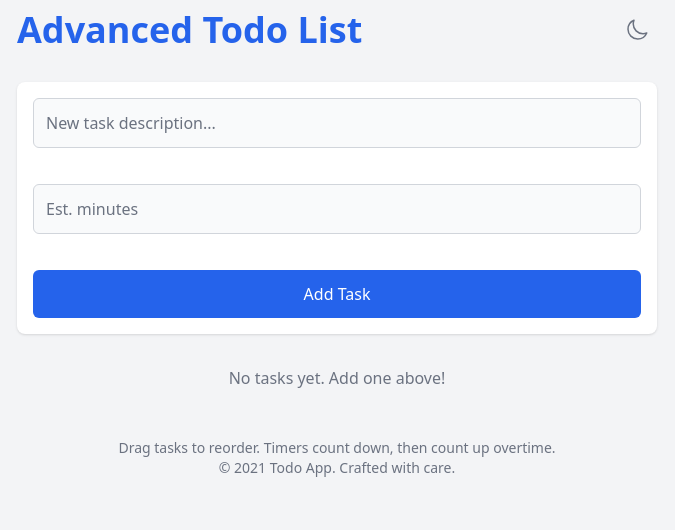
shows remaining time when marking a completed task as incomplete
Type "Test task" into the field labelled "New task description...". click: (337, 123)
box: [33, 98, 641, 148]
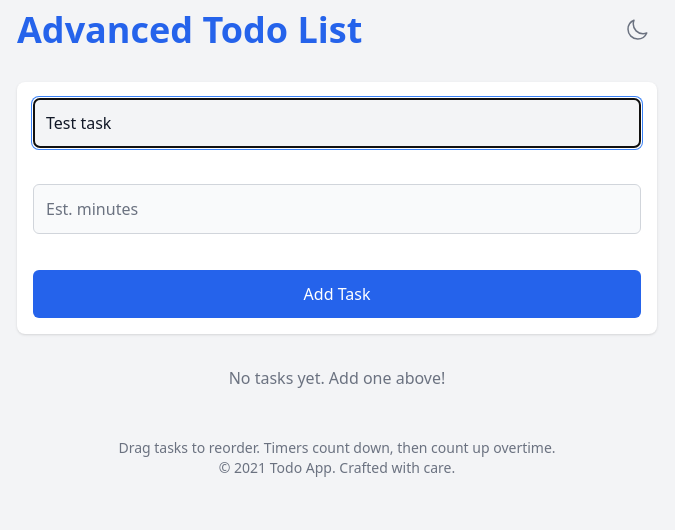
Type "1" into the number field named "estimated duration in minutes". click: (337, 209)
box: [33, 184, 641, 234]
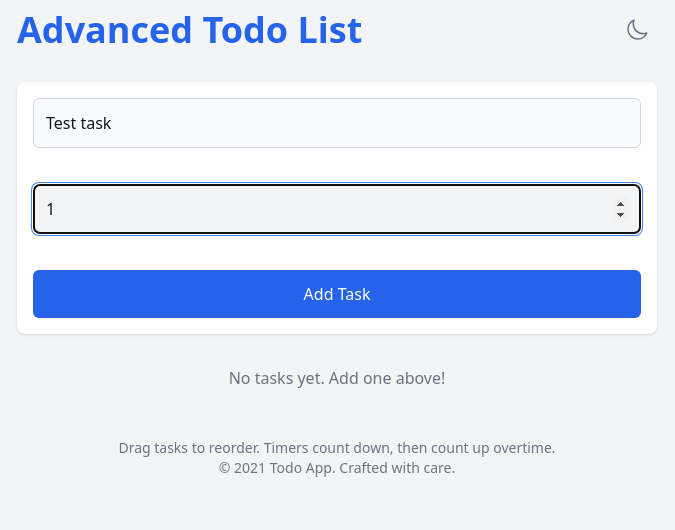
Click the button "Add Task". click: (337, 294)
box: [33, 270, 641, 318]
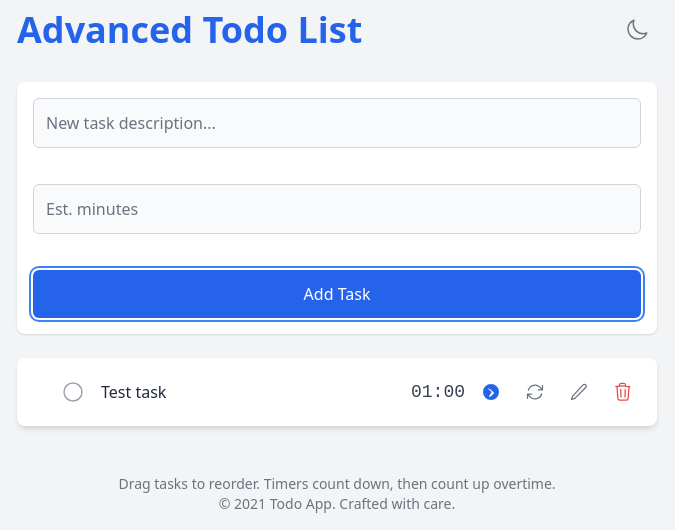
Click the button named "start timer". click: (491, 392)
box: [473, 374, 509, 410]
Wait 5000 ms
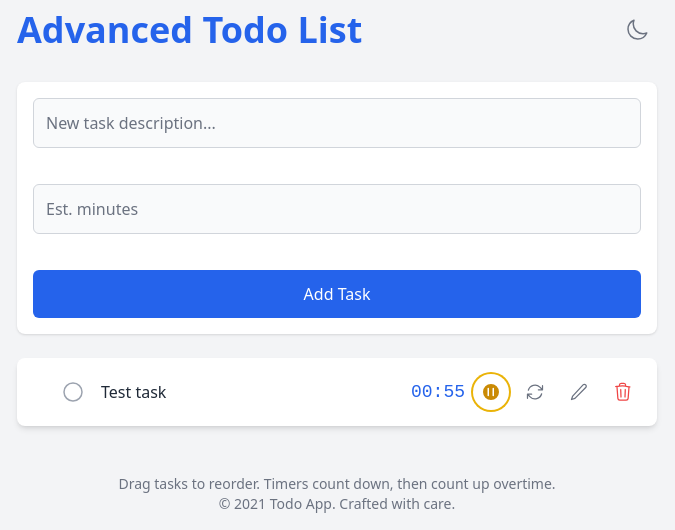
Click the button named "mark task as complete". click: (73, 392)
box: [57, 376, 89, 408]
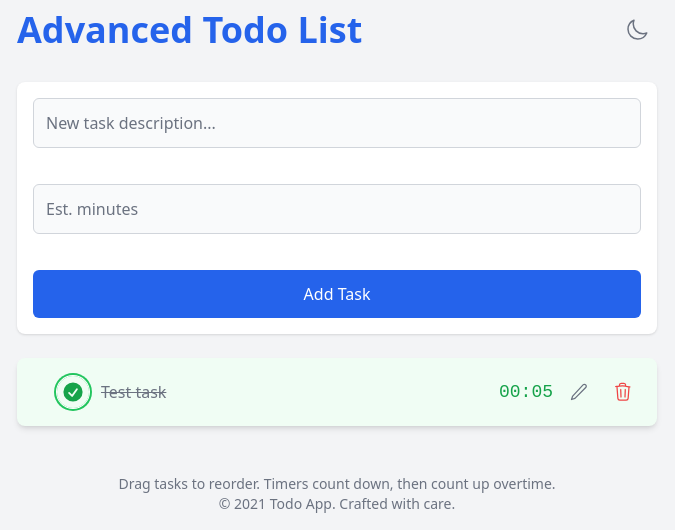
Now the text "00:05" is shown, box [499, 382, 553, 402]
Click the button named "mark task as incomplete". click: (73, 392)
box: [57, 376, 89, 408]
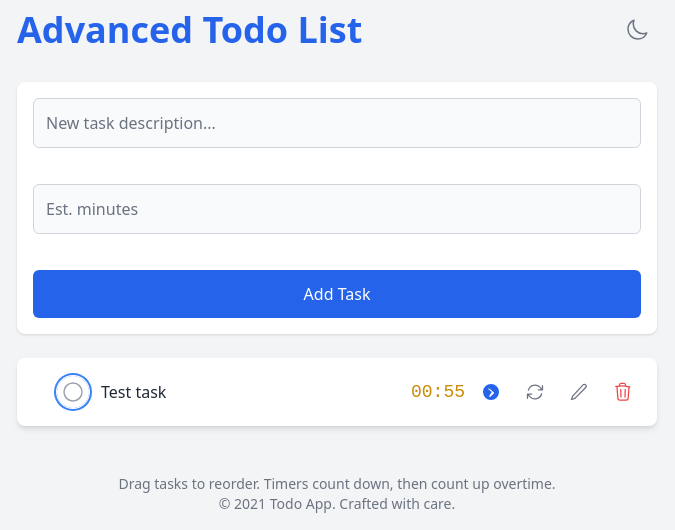
Now the text "00:55" is shown, box [411, 382, 465, 402]
